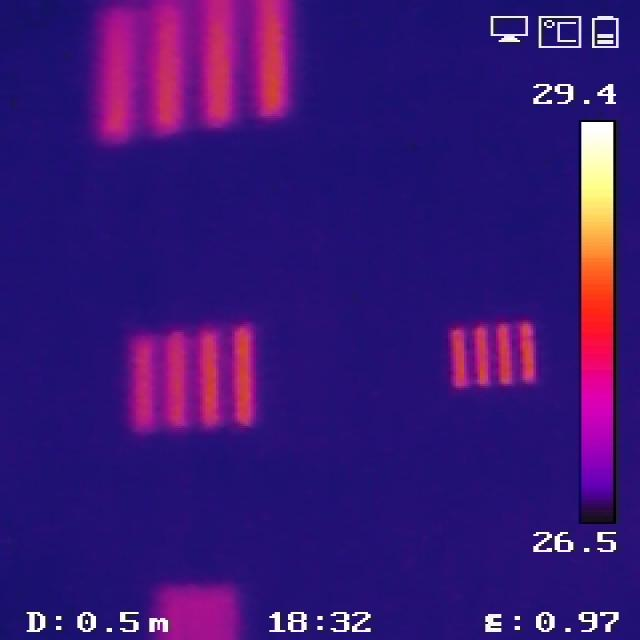Distinguishable 4-bar target: (91, 4, 289, 124), (117, 321, 263, 429), (446, 313, 550, 400)
Indistinguishable 4-bar target: (147, 583, 261, 636)
